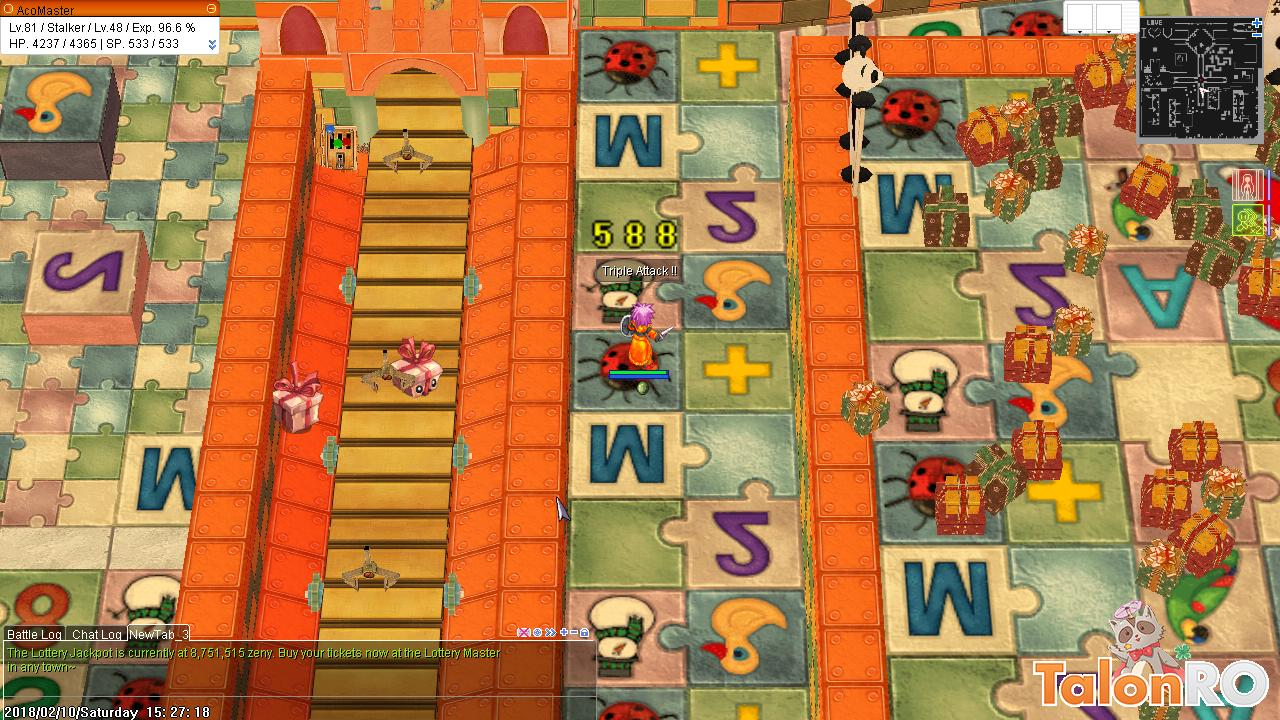loot: (632, 377, 648, 396)
myst_case: (381, 335, 447, 399), (269, 358, 323, 435)
